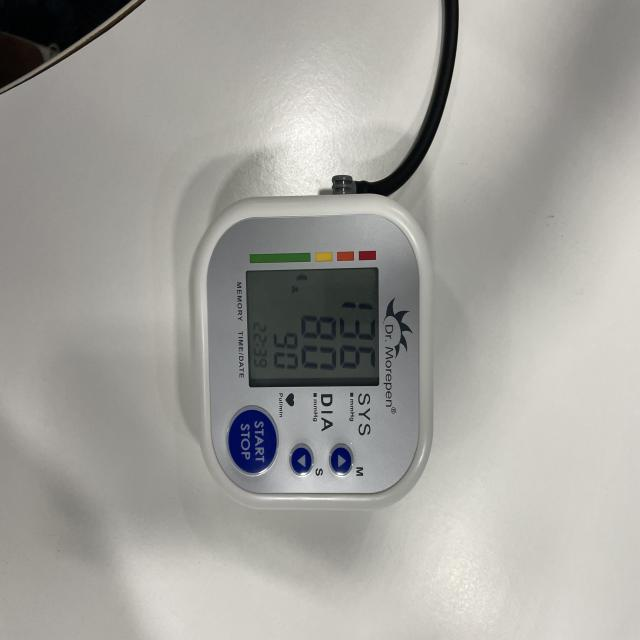bp: (181, 193, 435, 515)
